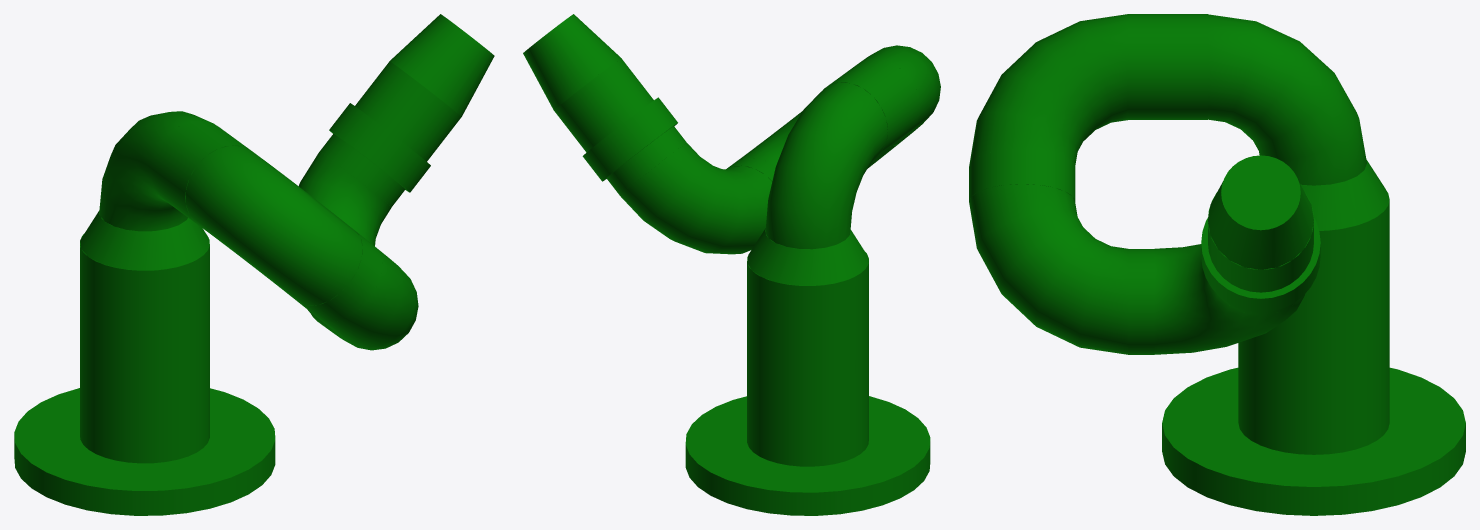
File: Image-1710907553076-2281200171504_71-SM51A.fbx
3 renders of one model, left to right at view 1: azimuth 30°, elevation 25°; view 2: azimuth 150°, elevation 25°; view 3: azimuth 270°, elevation 25°, orthographic. The views are drawn at different scales.
Parts seen in each view (by area): view 1: /71-SM51A-N1, CTORUS 4 of SUBEQUIPMENT /71-SM51A-PRIM, CYLINDER 1 of SUBEQUIPMENT /71-SM51A-PRIM, CTORUS 1 of SUBEQUIPMENT /71-SM51A-PRIM, CONE 2 of SUBEQUIPMENT /71-SM51A-PRIM, CYLINDER 6 of SUBEQUIPMENT /71-SM51A-PRIM, CONE 1 of SUBEQUIPMENT /71-SM51A-PRIM, CTORUS 2 of SUBEQUIPMENT /71-SM51A-PRIM, CYLINDER 2 of SUBEQUIPMENT /71-SM51A-PRIM, CTORUS 3 of SUBEQUIPMENT /71-SM51A-PRIM, CYLINDER 5 of SUBEQUIPMENT /71-SM51A-PRIM, CYLINDER 7 of SUBEQUIPMENT /71-SM51A-PRIM (+1 smaller); view 2: /71-SM51A-N1, CTORUS 1 of SUBEQUIPMENT /71-SM51A-PRIM, CTORUS 3 of SUBEQUIPMENT /71-SM51A-PRIM, CYLINDER 1 of SUBEQUIPMENT /71-SM51A-PRIM, CONE 2 of SUBEQUIPMENT /71-SM51A-PRIM, CYLINDER 6 of SUBEQUIPMENT /71-SM51A-PRIM, CONE 1 of SUBEQUIPMENT /71-SM51A-PRIM, CYLINDER 2 of SUBEQUIPMENT /71-SM51A-PRIM, CYLINDER 5 of SUBEQUIPMENT /71-SM51A-PRIM, CTORUS 4 of SUBEQUIPMENT /71-SM51A-PRIM, CYLINDER 4 of SUBEQUIPMENT /71-SM51A-PRIM, CTORUS 2 of SUBEQUIPMENT /71-SM51A-PRIM; view 3: /71-SM51A-N1, CTORUS 2 of SUBEQUIPMENT /71-SM51A-PRIM, CTORUS 1 of SUBEQUIPMENT /71-SM51A-PRIM, CTORUS 4 of SUBEQUIPMENT /71-SM51A-PRIM, CONE 2 of SUBEQUIPMENT /71-SM51A-PRIM, CYLINDER 2 of SUBEQUIPMENT /71-SM51A-PRIM, CTORUS 3 of SUBEQUIPMENT /71-SM51A-PRIM, CYLINDER 1 of SUBEQUIPMENT /71-SM51A-PRIM, CYLINDER 7 of SUBEQUIPMENT /71-SM51A-PRIM, CONE 1 of SUBEQUIPMENT /71-SM51A-PRIM, CYLINDER 5 of SUBEQUIPMENT /71-SM51A-PRIM, CYLINDER 3 of SUBEQUIPMENT /71-SM51A-PRIM (+1 smaller).
Part boxes in pixels (left/top/right/bottom): /71-SM51A-N1: left=14, top=307, right=275, bottom=515; CTORUS 4 of SUBEQUIPMENT /71-SM51A-PRIM: left=186, top=145, right=362, bottom=305; CYLINDER 1 of SUBEQUIPMENT /71-SM51A-PRIM: left=80, top=245, right=209, bottom=332; CTORUS 1 of SUBEQUIPMENT /71-SM51A-PRIM: left=99, top=111, right=210, bottom=231; CONE 2 of SUBEQUIPMENT /71-SM51A-PRIM: left=390, top=14, right=494, bottom=116; CYLINDER 6 of SUBEQUIPMENT /71-SM51A-PRIM: left=355, top=61, right=461, bottom=161; CONE 1 of SUBEQUIPMENT /71-SM51A-PRIM: left=80, top=210, right=209, bottom=270; CTORUS 2 of SUBEQUIPMENT /71-SM51A-PRIM: left=319, top=247, right=418, bottom=350; CYLINDER 2 of SUBEQUIPMENT /71-SM51A-PRIM: left=151, top=120, right=251, bottom=222; CTORUS 3 of SUBEQUIPMENT /71-SM51A-PRIM: left=299, top=152, right=391, bottom=312; CYLINDER 5 of SUBEQUIPMENT /71-SM51A-PRIM: left=329, top=103, right=430, bottom=192; CYLINDER 7 of SUBEQUIPMENT /71-SM51A-PRIM: left=299, top=231, right=382, bottom=321; /71-SM51A-N1: left=685, top=319, right=930, bottom=515; CTORUS 1 of SUBEQUIPMENT /71-SM51A-PRIM: left=765, top=82, right=887, bottom=249; CTORUS 3 of SUBEQUIPMENT /71-SM51A-PRIM: left=620, top=143, right=771, bottom=254; CYLINDER 1 of SUBEQUIPMENT /71-SM51A-PRIM: left=747, top=261, right=868, bottom=344; CONE 2 of SUBEQUIPMENT /71-SM51A-PRIM: left=523, top=14, right=621, bottom=110; CYLINDER 6 of SUBEQUIPMENT /71-SM51A-PRIM: left=554, top=58, right=653, bottom=152; CONE 1 of SUBEQUIPMENT /71-SM51A-PRIM: left=747, top=228, right=868, bottom=285; CYLINDER 2 of SUBEQUIPMENT /71-SM51A-PRIM: left=823, top=58, right=919, bottom=154; CYLINDER 5 of SUBEQUIPMENT /71-SM51A-PRIM: left=582, top=97, right=677, bottom=181; CTORUS 4 of SUBEQUIPMENT /71-SM51A-PRIM: left=859, top=45, right=940, bottom=146; CYLINDER 4 of SUBEQUIPMENT /71-SM51A-PRIM: left=606, top=126, right=686, bottom=195; CTORUS 2 of SUBEQUIPMENT /71-SM51A-PRIM: left=735, top=111, right=880, bottom=168; /71-SM51A-N1: left=1162, top=272, right=1465, bottom=515; CTORUS 2 of SUBEQUIPMENT /71-SM51A-PRIM: left=969, top=184, right=1128, bottom=354; CTORUS 1 of SUBEQUIPMENT /71-SM51A-PRIM: left=1208, top=14, right=1366, bottom=185; CTORUS 4 of SUBEQUIPMENT /71-SM51A-PRIM: left=969, top=14, right=1128, bottom=166; CONE 2 of SUBEQUIPMENT /71-SM51A-PRIM: left=1208, top=155, right=1313, bottom=269; CYLINDER 2 of SUBEQUIPMENT /71-SM51A-PRIM: left=1128, top=14, right=1207, bottom=119; CTORUS 3 of SUBEQUIPMENT /71-SM51A-PRIM: left=1154, top=244, right=1305, bottom=354; CYLINDER 1 of SUBEQUIPMENT /71-SM51A-PRIM: left=1301, top=200, right=1389, bottom=303; CYLINDER 7 of SUBEQUIPMENT /71-SM51A-PRIM: left=969, top=148, right=1075, bottom=201; CONE 1 of SUBEQUIPMENT /71-SM51A-PRIM: left=1301, top=159, right=1389, bottom=230; CYLINDER 5 of SUBEQUIPMENT /71-SM51A-PRIM: left=1201, top=217, right=1320, bottom=312; CYLINDER 3 of SUBEQUIPMENT /71-SM51A-PRIM: left=1128, top=249, right=1154, bottom=354.
Bounding box in the file's own units: 0.4386 × 0.3745 × 0.3778.
